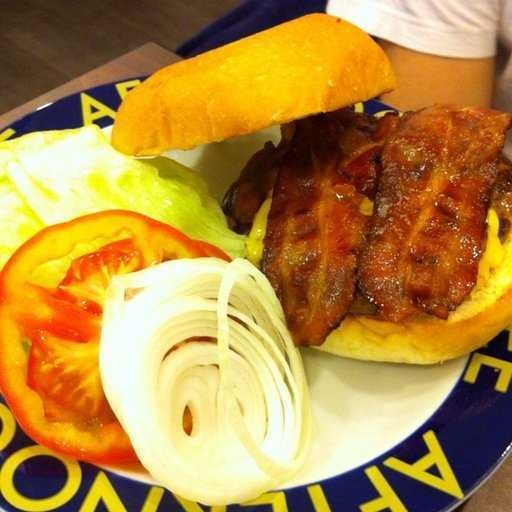hamburger: (56, 54, 501, 368)
